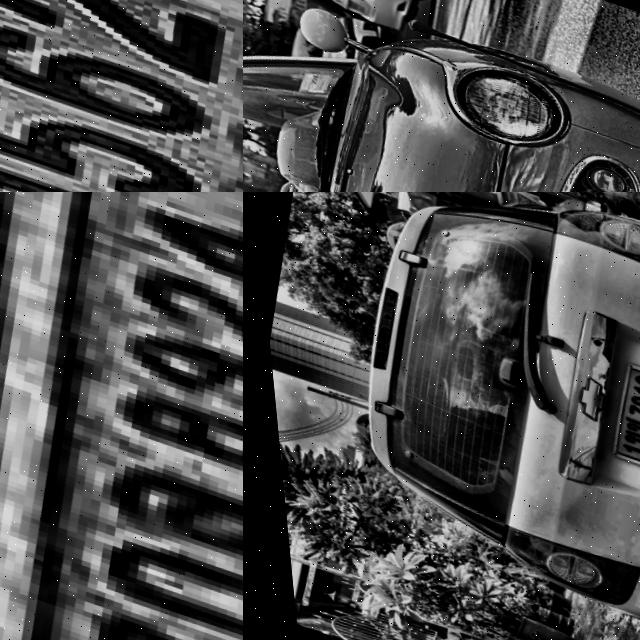license-plate: (0, 192, 243, 640), (0, 0, 243, 192), (592, 350, 640, 472), (342, 0, 361, 5)
